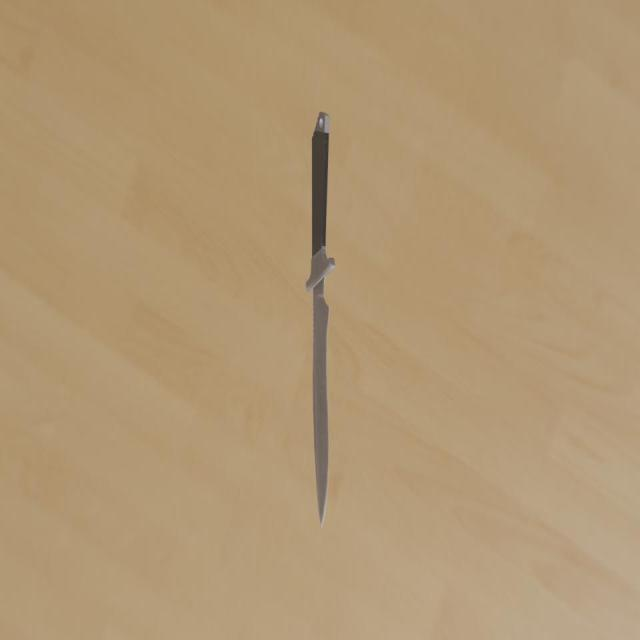knife: (312, 112, 329, 256)
